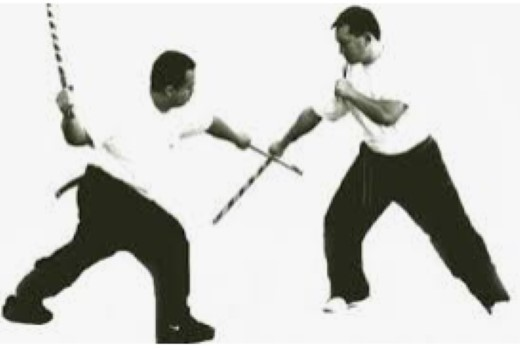baston_e: (217, 154, 268, 225), (40, 5, 75, 91), (250, 143, 295, 173)
baston_v: (60, 103, 79, 121), (292, 163, 310, 179), (209, 212, 220, 233)
